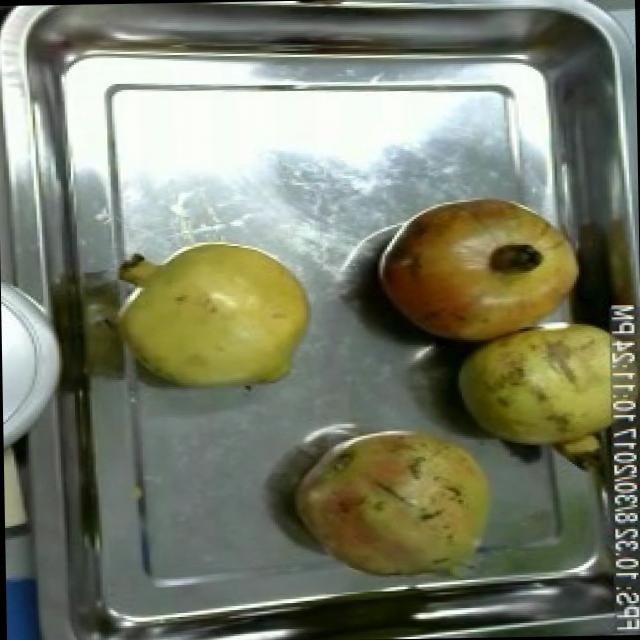fruit: (274, 417, 506, 589), (102, 232, 322, 404), (365, 190, 586, 352), (446, 310, 640, 466), (1, 399, 36, 554)
